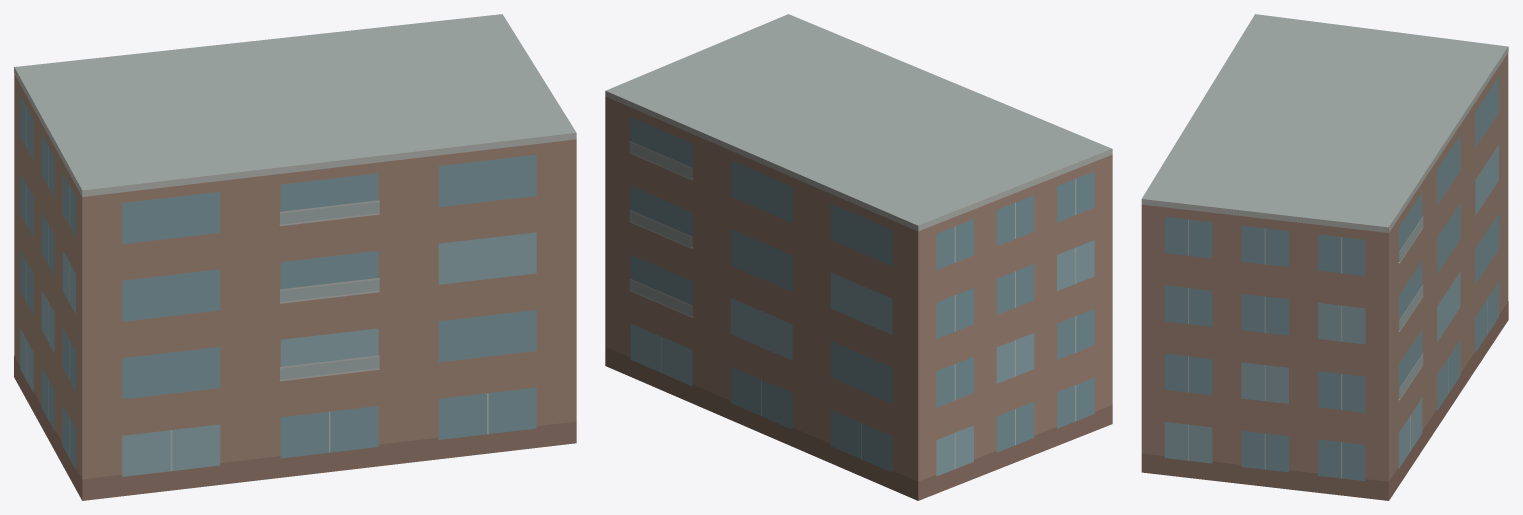
Rendered from survey-upis-32655238.glb.
3 views of the same model, side by side, from view 1: azimuth 30°, elevation 25°; view 2: azimuth 150°, elevation 25°; view 3: azimuth 270°, elevation 25° (orthographic). The views are drawn at different scales.
Visible parts, largest first — view 1: survey-upis-32655238.tmp; view 2: survey-upis-32655238.tmp; view 3: survey-upis-32655238.tmp.
Boxes of the visible parts, x1=… form: survey-upis-32655238.tmp: x1=14, y1=14, x2=576, y2=500; survey-upis-32655238.tmp: x1=605, y1=14, x2=1112, y2=500; survey-upis-32655238.tmp: x1=1141, y1=14, x2=1508, y2=500.
Size of the model in its own units: 19.58 by 11.7 by 14.23.
